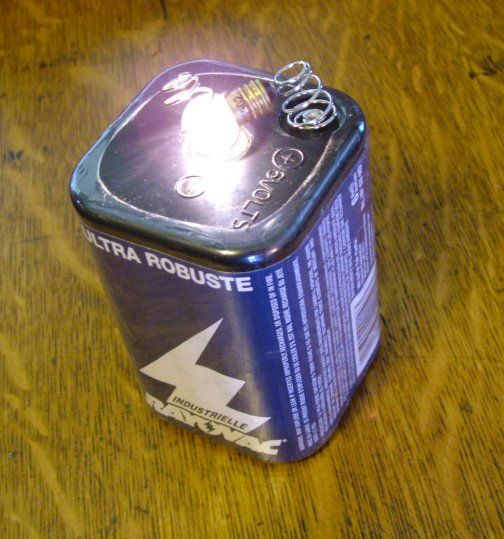6V: (60, 51, 398, 471)
